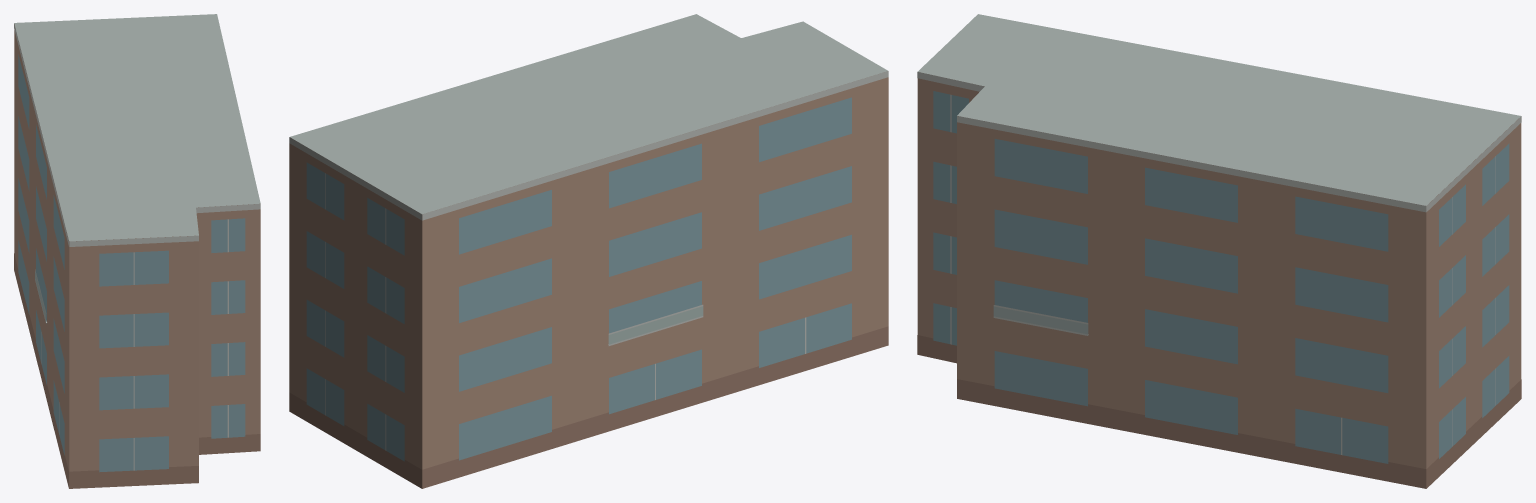
File: survey-upis-32526541.glb
The picture shows the model from 3 angles, left to right: view 1: azimuth 30°, elevation 25°; view 2: azimuth 150°, elevation 25°; view 3: azimuth 270°, elevation 25°; orthographic projection. The views are drawn at different scales.
Visible parts, largest first — view 1: survey-upis-32526541.tmp; view 2: survey-upis-32526541.tmp; view 3: survey-upis-32526541.tmp.
Part boxes in pixels (x1,y1,x2,y2): survey-upis-32526541.tmp: [14, 14, 260, 488]; survey-upis-32526541.tmp: [289, 14, 888, 488]; survey-upis-32526541.tmp: [917, 14, 1521, 488].
Size of the model in its own units: 15.5 by 10.65 by 20.61.
